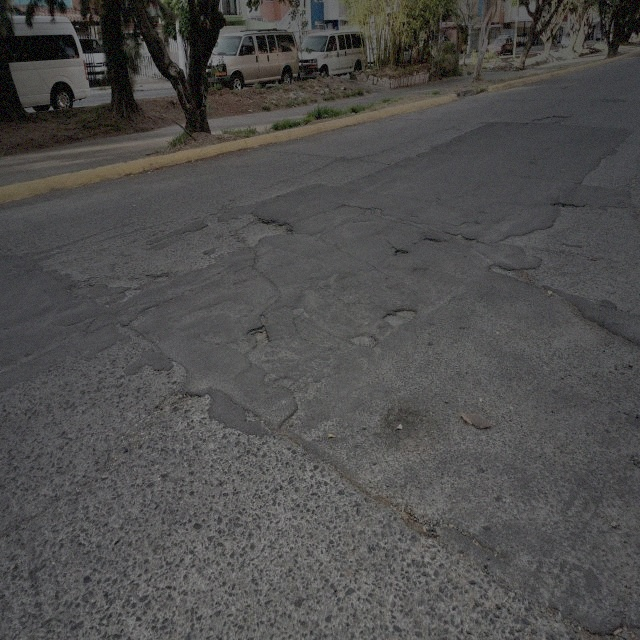pothole: (247, 211, 293, 249), (489, 260, 540, 290), (278, 379, 304, 435), (162, 389, 215, 416), (383, 305, 417, 327), (349, 331, 375, 351), (248, 324, 270, 346), (454, 231, 481, 244), (422, 235, 440, 246), (394, 246, 408, 256), (368, 206, 382, 216)
